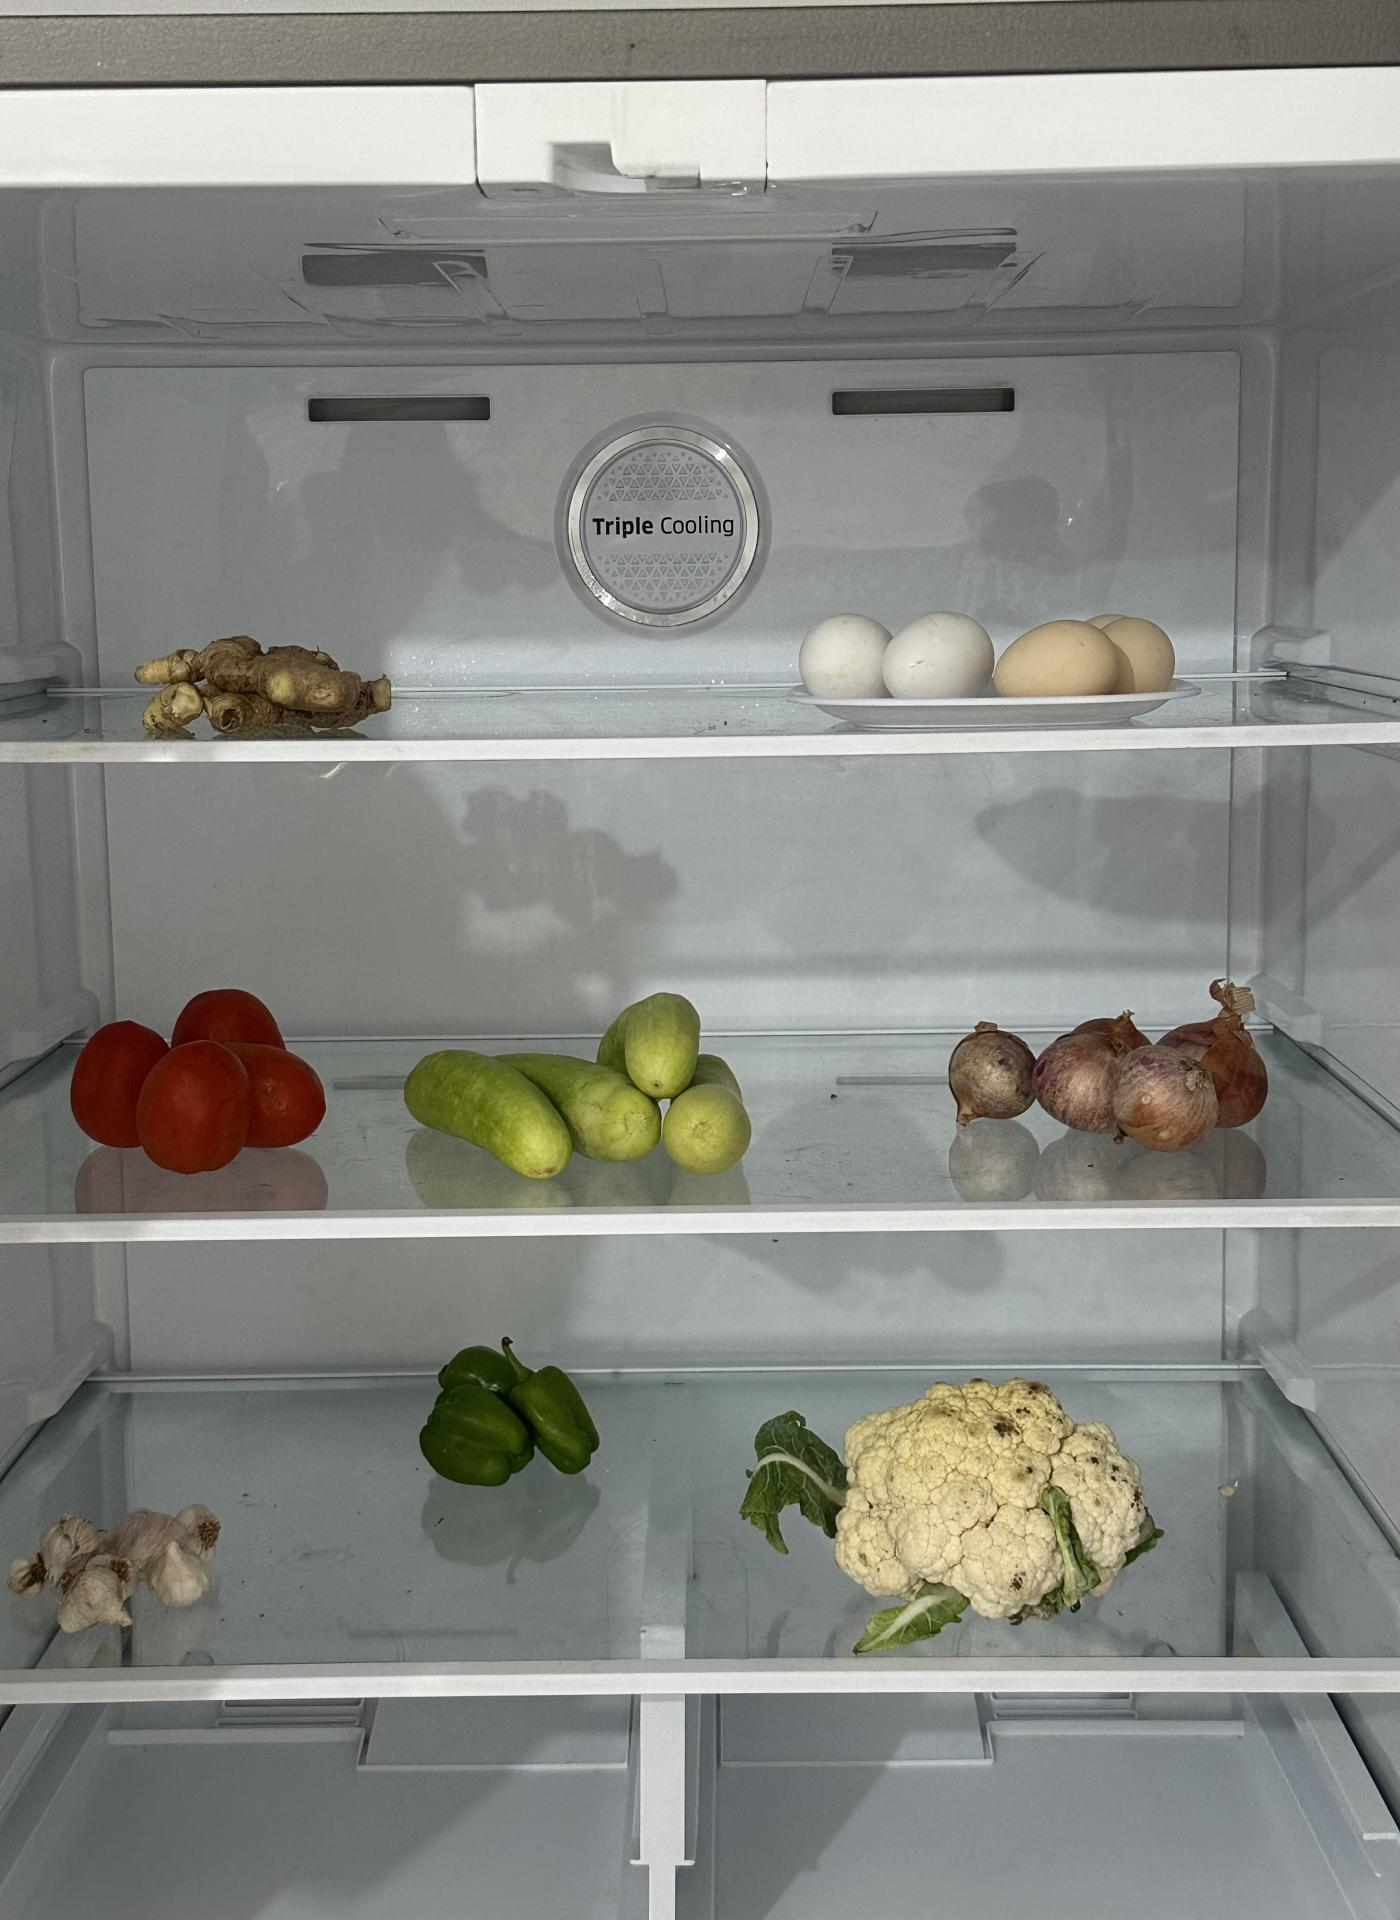capsicum: (414, 1342, 602, 1489)
cauliflower: (833, 1370, 1153, 1616)
cucumber: (409, 993, 759, 1182)
egg: (799, 607, 1179, 704)
garlic: (16, 1500, 218, 1641)
ginger: (134, 632, 389, 738)
onion: (944, 999, 1266, 1148)
tomato: (69, 978, 327, 1167)
